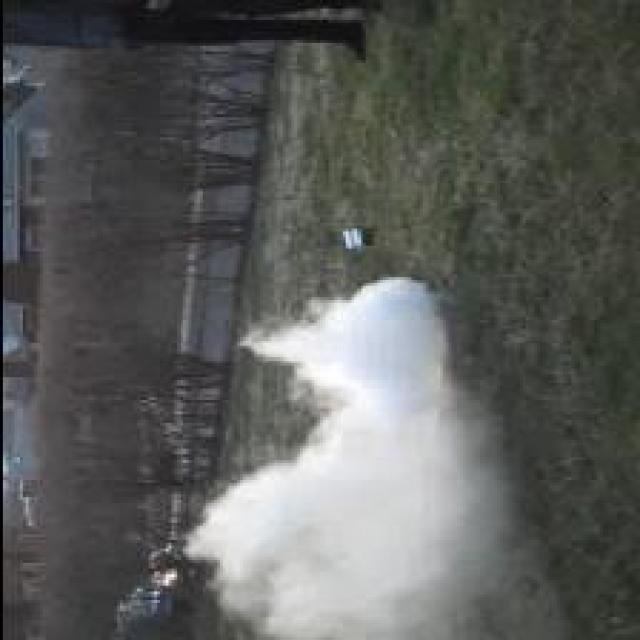Smoke: (182, 277, 538, 640)
